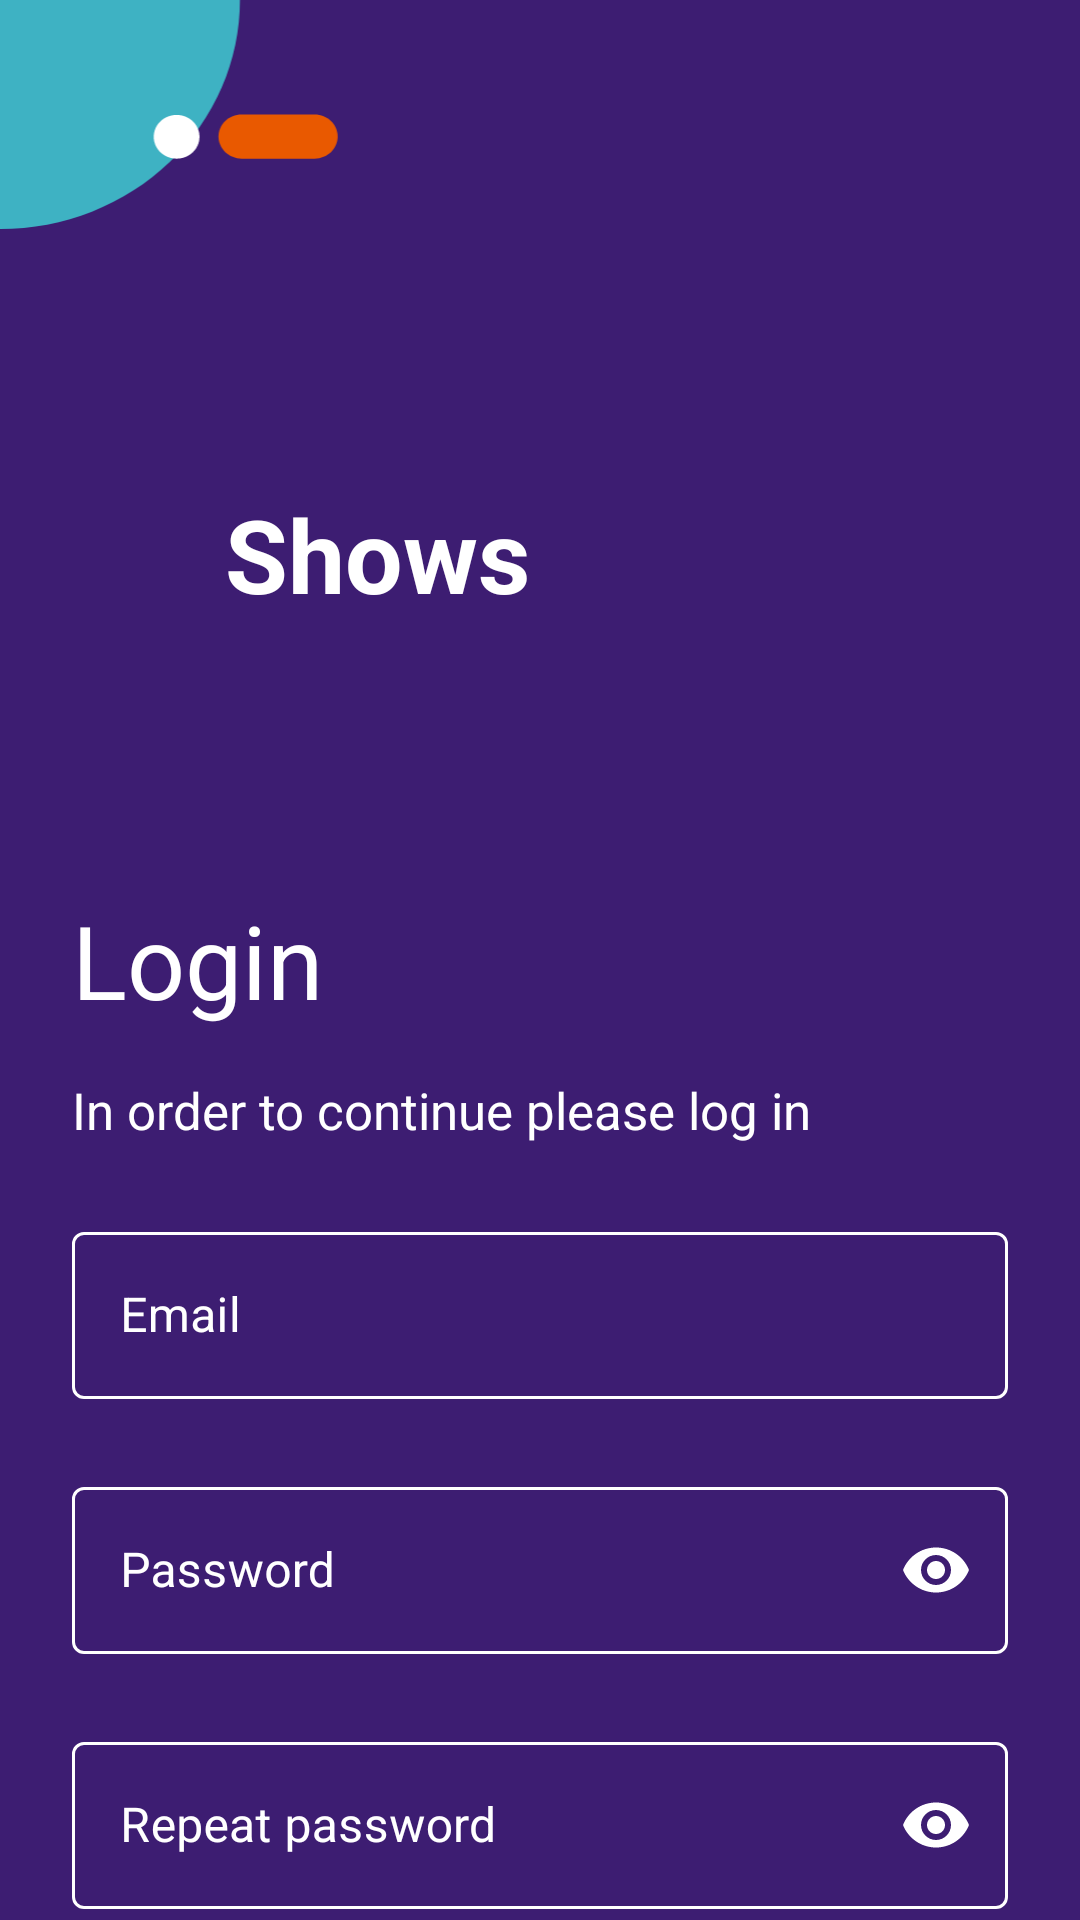

Screen size 1080*1920. Icon name, then its center in pixels as (x=x, y=y):
top left illustration: (x=169, y=114)
